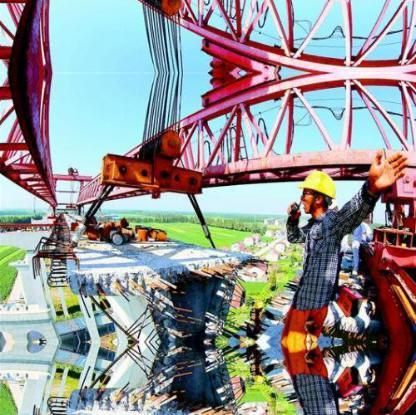helmet: (297, 167, 341, 202)
